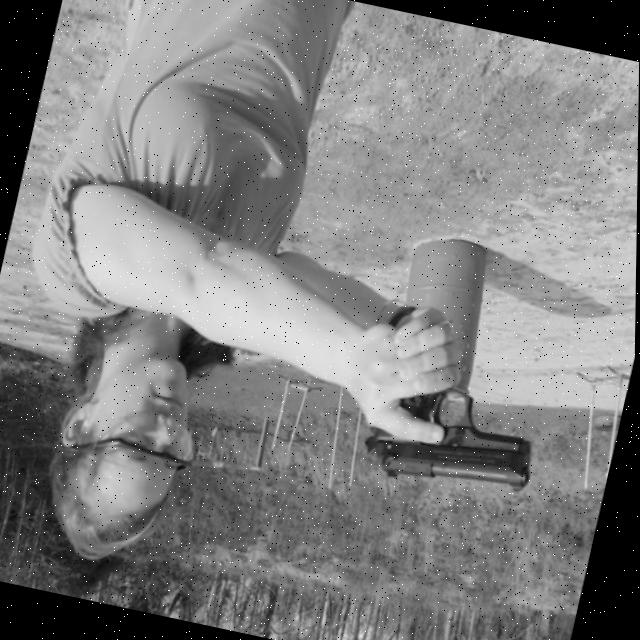pistol: (356, 363, 549, 508)
